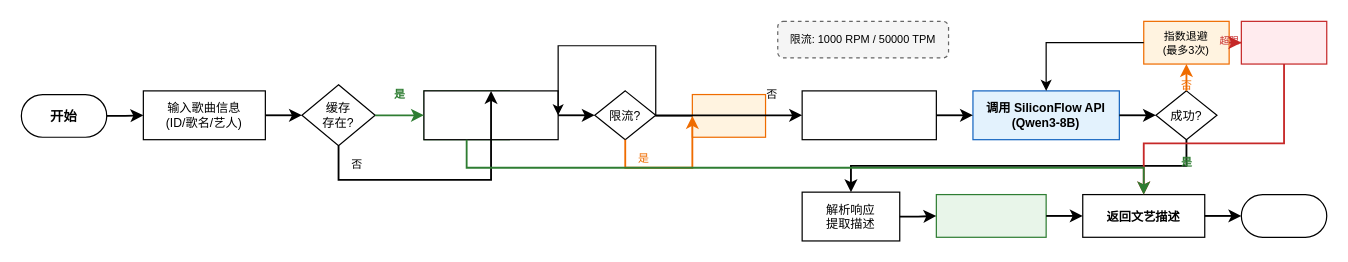
This 1348x262 diagram has some shape labels left out. The centre of each missing label's shape, as x and y in pixels:
Step1: 结构化分析 提取歌曲元数据: (490,115)
Step2: 构建Prompt (文艺描述模板): (868,115)
存储到SQLite: (990,215)
等待队列 (延迟): (728,115)
结束: (1283,215)
记录错误 返回默认: (1283,42)
